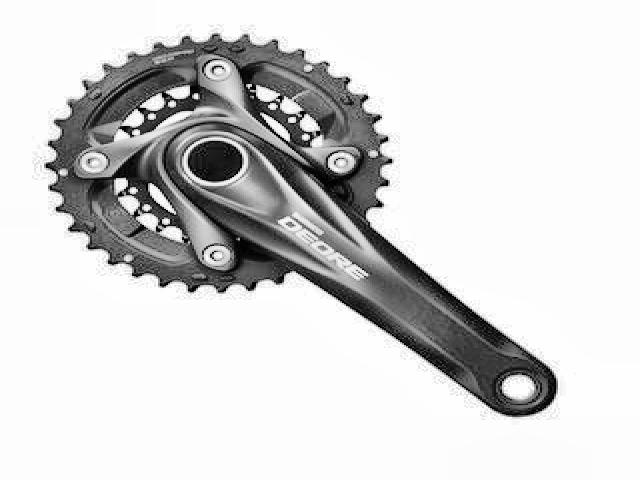cranks_set: (41, 29, 560, 423)
